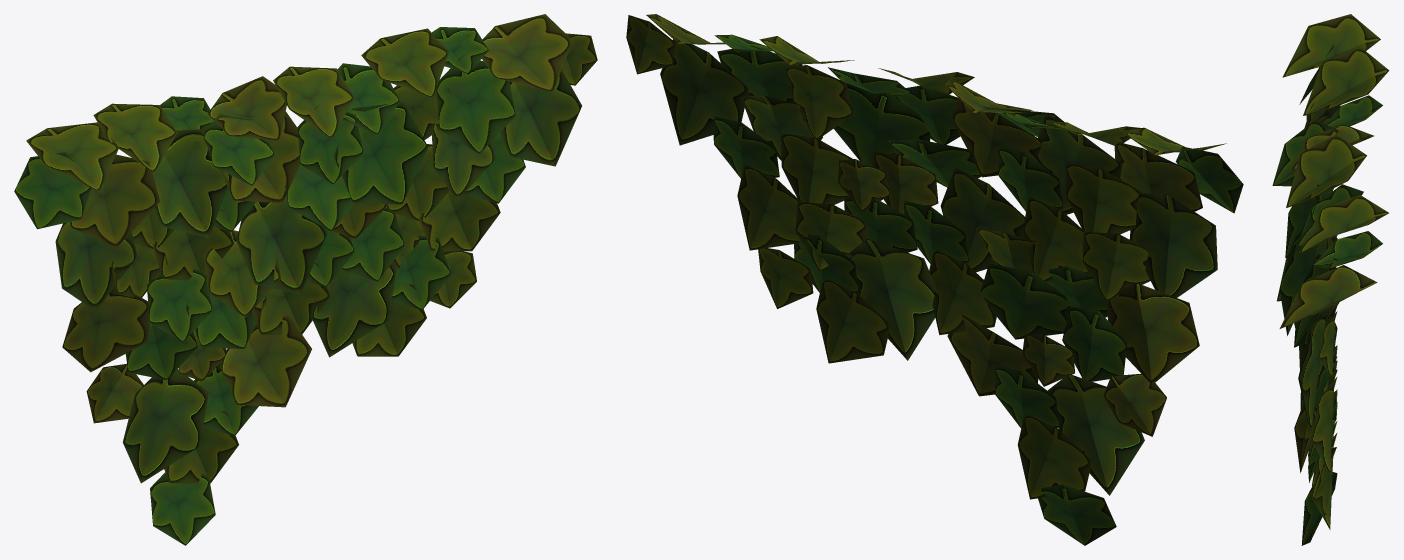
Rendered from ivy_m_01a.fbx.
The picture shows the model from 3 angles, left to right: view 1: azimuth 30°, elevation 25°; view 2: azimuth 150°, elevation 25°; view 3: azimuth 270°, elevation 25°; orthographic projection. The views are drawn at different scales.
Parts seen in each view (by area): view 1: ivy_m_01a; view 2: ivy_m_01a; view 3: ivy_m_01a.
Part boxes in pixels (box(x1,y1,x2,y2)): ivy_m_01a: box(14, 14, 597, 545); ivy_m_01a: box(626, 14, 1243, 545); ivy_m_01a: box(1272, 14, 1389, 545).
Size of the model in its own units: 122 by 19.6 by 86.14.
